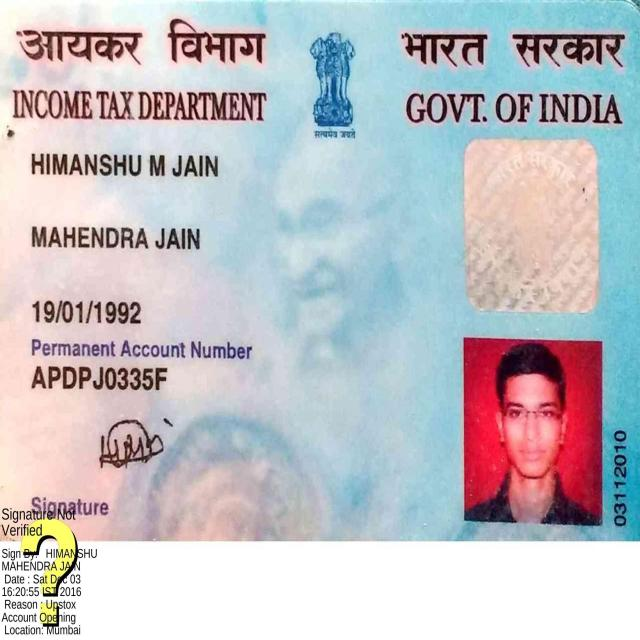pan_card: (1, 3, 639, 538)
